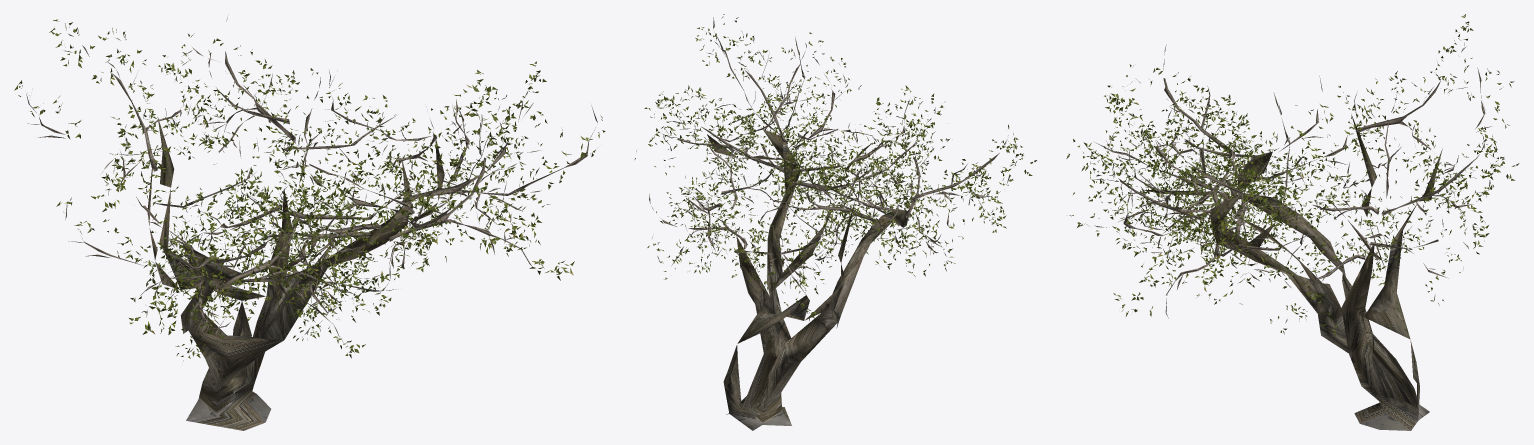
The model's file is tree_broad.glb.
The picture shows the model from 3 angles, left to right: view 1: azimuth 30°, elevation 25°; view 2: azimuth 150°, elevation 25°; view 3: azimuth 270°, elevation 25°; orthographic projection. The views are drawn at different scales.
Bounding box in the file's own units: 3.8 × 3.4 × 4.03.
Materials: 3 (3 with a texture image).
